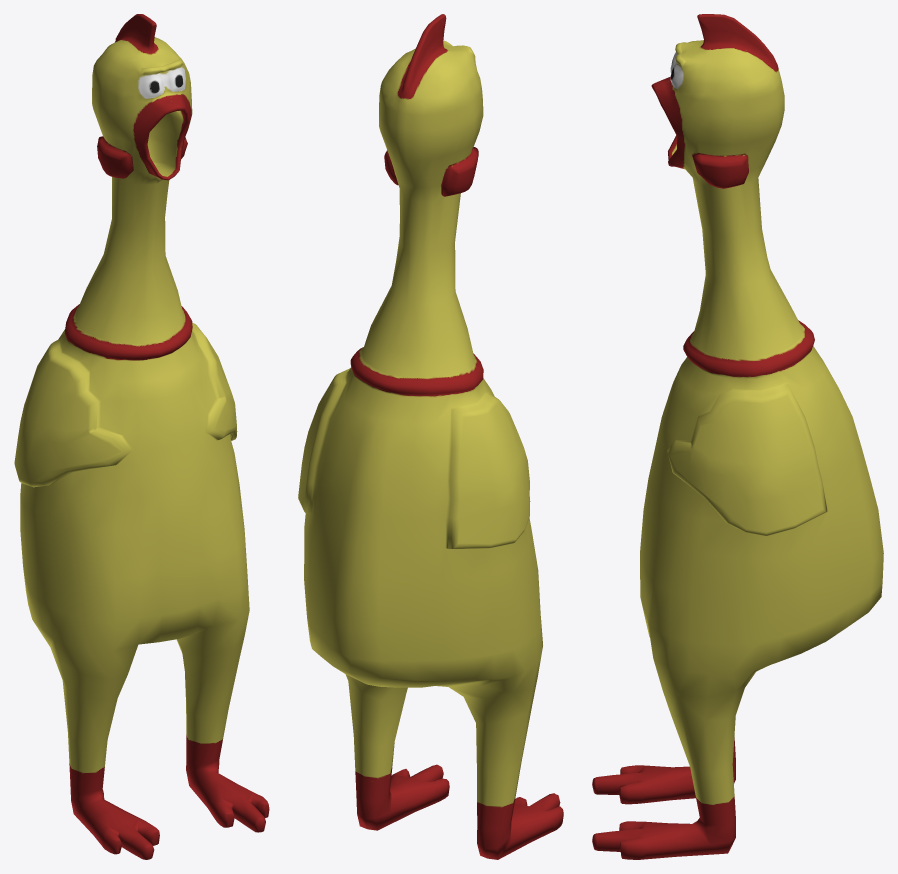
The model's file is Chicken.fbx.
The picture shows the model from 3 angles, left to right: view 1: azimuth 30°, elevation 25°; view 2: azimuth 150°, elevation 25°; view 3: azimuth 270°, elevation 25°; orthographic projection. The views are drawn at different scales.
Visible parts, largest first — view 1: pCube1; view 2: pCube1; view 3: pCube1.
Part boxes in pixels (x1,y1,x2,y2): pCube1: (14, 14, 269, 859); pCube1: (298, 14, 563, 859); pCube1: (592, 14, 883, 859).
Size of the model in its own units: 0.7166 by 2.63 by 0.8621.
